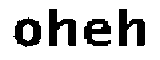e: (79, 15, 112, 50)
h: (44, 5, 80, 49), (115, 7, 149, 50)
o: (11, 16, 44, 49)
